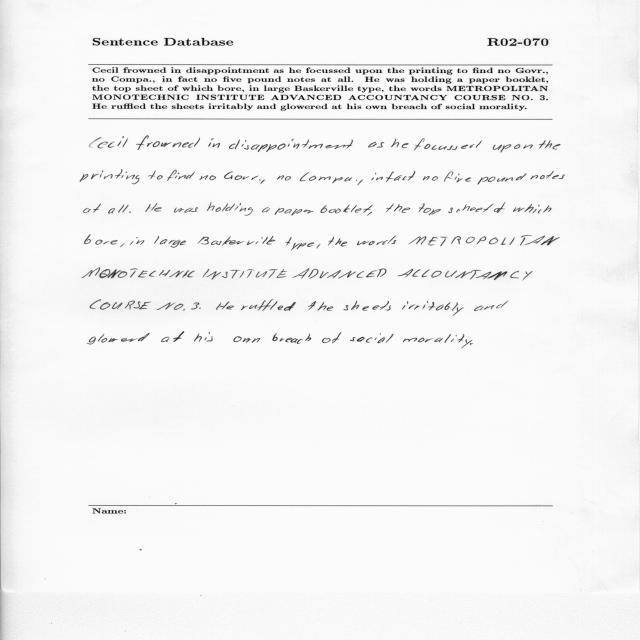word: (408, 235, 560, 246), (229, 139, 353, 152), (398, 269, 533, 280), (82, 268, 195, 278), (403, 334, 472, 349), (293, 268, 387, 279), (402, 301, 464, 316), (203, 269, 287, 280), (136, 136, 200, 150), (80, 170, 139, 185), (414, 138, 482, 150), (198, 236, 275, 246), (87, 333, 150, 344), (300, 172, 357, 183), (90, 300, 151, 310), (207, 203, 253, 216), (241, 300, 295, 311), (478, 173, 527, 185), (343, 301, 391, 311), (320, 205, 373, 214), (90, 136, 128, 148), (350, 333, 394, 343), (273, 333, 312, 344), (448, 204, 493, 213), (357, 236, 396, 246), (154, 236, 186, 248), (224, 171, 261, 181), (286, 237, 314, 250), (513, 204, 551, 213), (84, 235, 118, 245), (474, 301, 508, 311), (492, 144, 533, 152), (386, 171, 415, 182), (167, 170, 195, 181), (444, 172, 471, 183), (530, 171, 565, 179), (418, 204, 441, 216), (275, 208, 314, 215), (308, 301, 333, 311), (386, 203, 410, 213), (161, 332, 184, 342), (157, 303, 185, 311), (322, 333, 341, 344), (539, 140, 561, 149), (328, 237, 347, 247), (194, 332, 213, 342), (108, 205, 129, 214), (234, 336, 261, 343), (84, 203, 101, 213), (391, 139, 409, 148), (145, 203, 162, 212), (174, 207, 198, 213), (216, 302, 234, 310), (148, 171, 163, 180), (494, 202, 506, 213), (208, 138, 220, 148), (130, 237, 144, 245), (368, 142, 384, 148), (371, 173, 383, 181), (199, 175, 216, 180), (423, 176, 438, 181), (277, 176, 291, 181), (191, 303, 199, 310), (262, 208, 270, 213), (358, 180, 363, 186), (367, 212, 372, 216), (317, 244, 321, 249), (261, 180, 265, 184), (121, 244, 125, 248), (470, 343, 473, 345), (129, 211, 131, 213), (199, 308, 201, 309)
